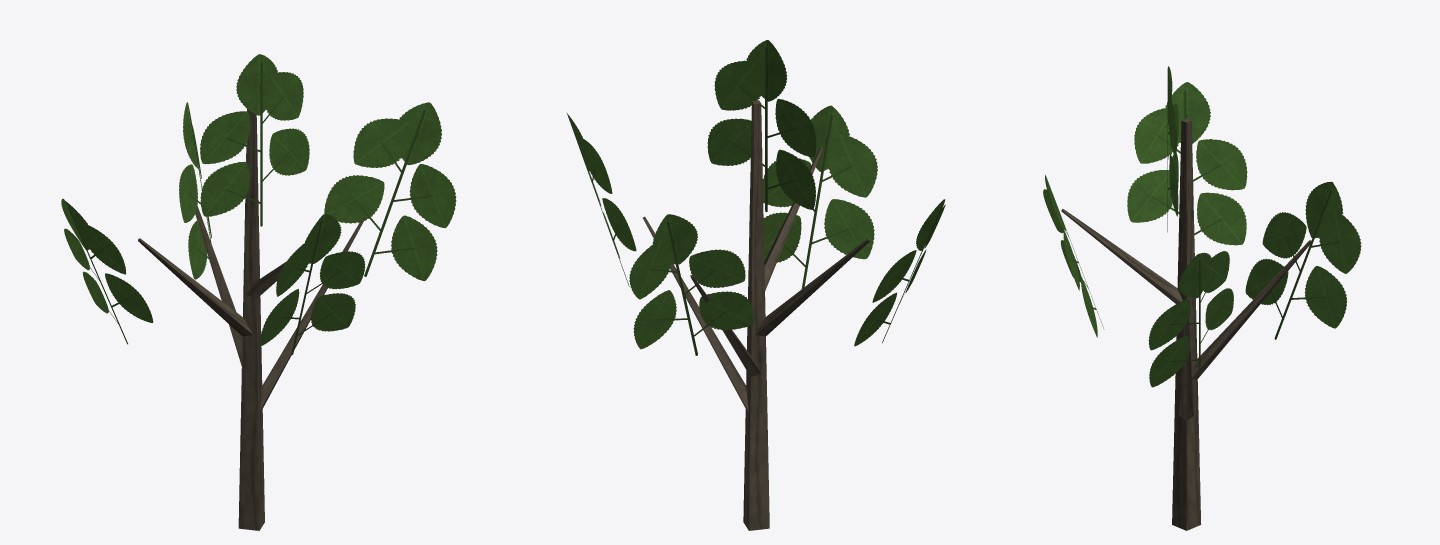
Rendered from alder_sprig_lod2.glb.
3 renders of one model, left to right at view 1: azimuth 30°, elevation 25°; view 2: azimuth 150°, elevation 25°; view 3: azimuth 270°, elevation 25°, orthographic. The views are drawn at different scales.
Visible parts, largest first — view 1: alder_sprig_lod2_leaves, alder_sprig_lod2_wood; view 2: alder_sprig_lod2_leaves, alder_sprig_lod2_wood; view 3: alder_sprig_lod2_leaves, alder_sprig_lod2_wood.
Part boxes in pixels (x1,y1,x2,y2): alder_sprig_lod2_leaves: [61, 54, 456, 355]; alder_sprig_lod2_wood: [138, 109, 365, 530]; alder_sprig_lod2_leaves: [566, 40, 945, 355]; alder_sprig_lod2_wood: [643, 100, 870, 530]; alder_sprig_lod2_leaves: [1043, 66, 1361, 387]; alder_sprig_lod2_wood: [1061, 118, 1310, 530].
Bounding box in the file's own units: 1.1 × 1.2 × 0.974.
2 materials, 2 textured.
